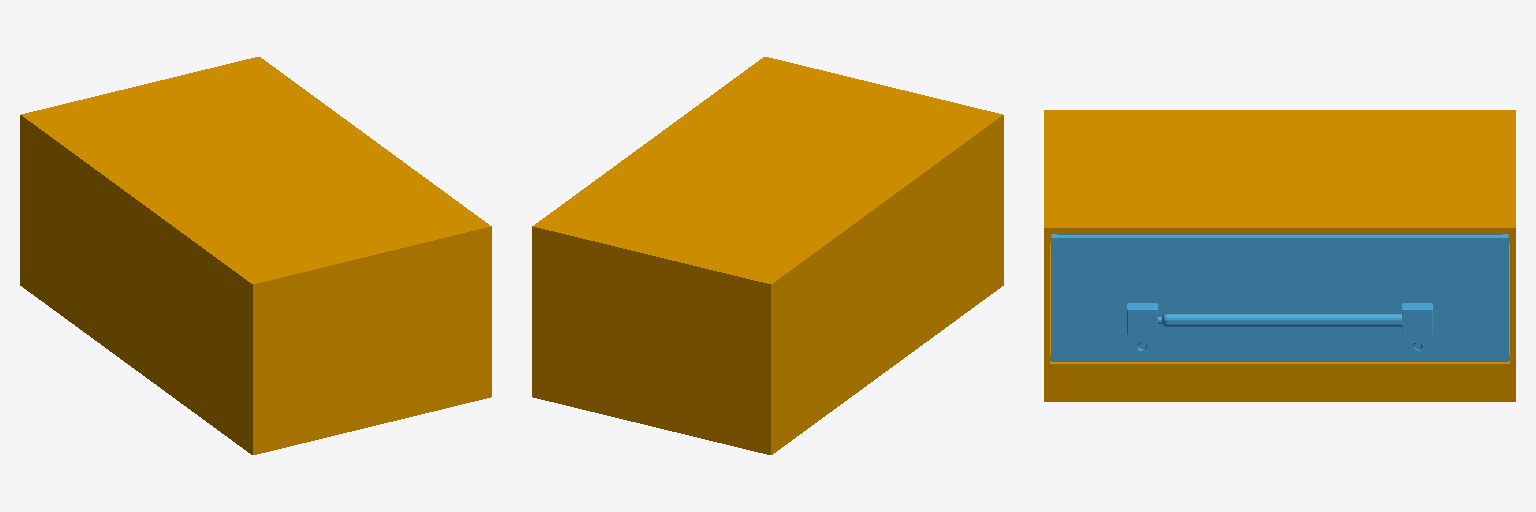
The robot description file, URDF, robot "v2var_drawer":
<?xml version="1.0"?>
<!-- Generated by scripts/make_drawer_asset.py from robot.urdf.
     Geometry baked +90 deg about z so the slide axis is +X, matching the
     convention every offset in drawer_open_place/action_config.json assumes.
     handle_xpos is derived from the tray geometry, not hand-placed.
     Collision shapes are a CoACD decomposition of the same baked meshes. -->
<robot name="v2var_drawer">
  <link name="outer_box">
    <inertial><origin xyz="0.000000 0.000000 0.065000" rpy="0 0 0"/>
      <mass value="0.62"/>
      <inertia ixx="0.003" ixy="0" ixz="0" iyy="0.004" iyz="0" izz="0.006"/></inertial>
    <visual><origin xyz="0 0 0" rpy="0 0 0"/>
      <geometry><mesh filename="meshes/base_band_baked.obj"/></geometry></visual>
    <collision><origin xyz="0 0 0" rpy="0 0 0"/>
      <geometry><mesh filename="meshes/base_band_acd.obj"/></geometry></collision>
  </link>

  <link name="inner_box">
    <inertial><origin xyz="0.012607 -0.000000 0.076550" rpy="0 0 0"/>
      <mass value="0.34"/>
      <inertia ixx="0.001" ixy="0" ixz="0" iyy="0.002" iyz="0" izz="0.003"/></inertial>
    <visual><origin xyz="0 0 0" rpy="0 0 0"/>
      <geometry><mesh filename="meshes/drawer_baked.obj"/></geometry></visual>
    <collision><origin xyz="0 0 0" rpy="0 0 0"/>
      <geometry><mesh filename="meshes/drawer_acd.obj"/></geometry></collision>
  </link>

  <link name="handle_xpos"/>

  <joint name="slide_rails" type="prismatic">
    <origin xyz="0.000000 0.000000 0.000000" rpy="0 0 0"/>
    <parent link="outer_box"/><child link="inner_box"/>
    <axis xyz="-1 0 0"/>
    <limit lower="-0.125" upper="0.0" effort="25.0" velocity="1.0" acceleration="5.0"/>
  </joint>

  <joint name="fixed_handle" type="fixed">
    <origin xyz="0.099710 0.000000 0.064100" rpy="0 -1.5707963268 0"/>
    <parent link="inner_box"/><child link="handle_xpos"/>
  </joint>
</robot>

--- Facts derived from the render (not from the file) ---
Views: 3 orthographic renders of the robot side by side, from view 1: azimuth 30°, elevation 25°; view 2: azimuth 150°, elevation 25°; view 3: azimuth 270°, elevation 25°.
Robot: v2var_drawer — 3 links, 2 joints (1 prismatic, 1 fixed); root link outer_box; default pose: every joint at zero.
Links seen in each view (by area): view 1: outer_box; view 2: outer_box; view 3: outer_box, inner_box.
Link boxes in pixels (left/top/right/bottom): outer_box: left=20, top=57, right=491, bottom=454; outer_box: left=532, top=57, right=1003, bottom=454; outer_box: left=1044, top=110, right=1515, bottom=401; inner_box: left=1051, top=234, right=1508, bottom=361.
Bounding box of the posed robot: 0.2002 × 0.32 × 0.13 m (x, y, z).
2 mesh visuals loaded from 2 distinct referenced files (2 OBJ).
